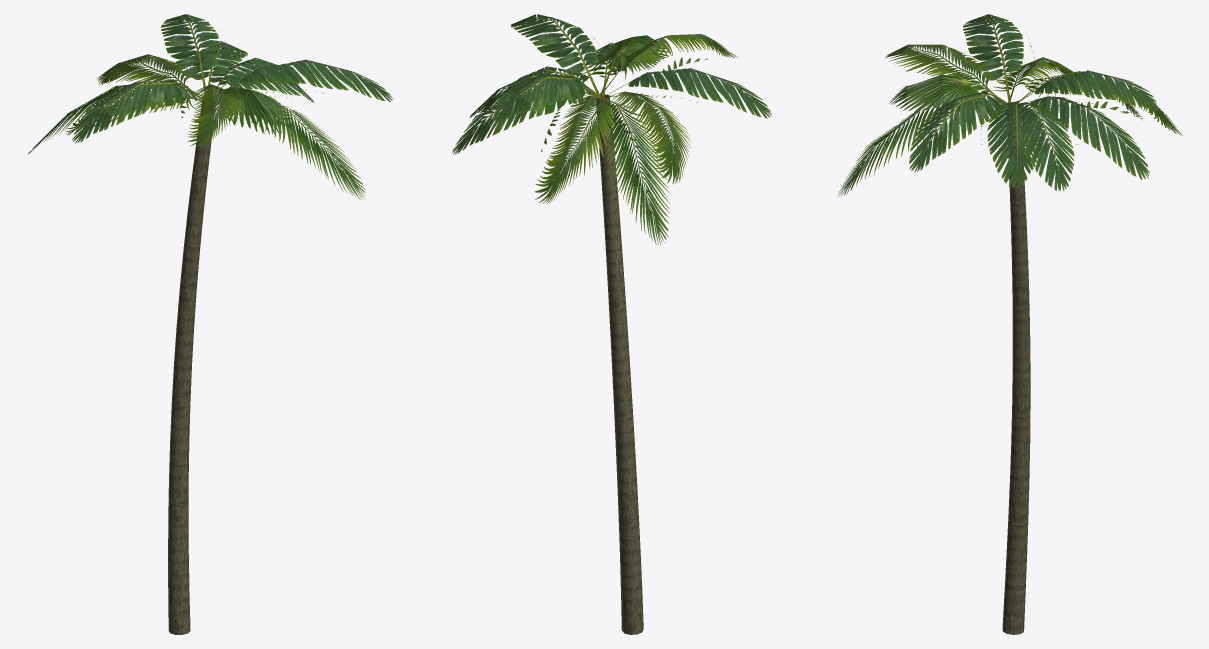
The model's file is palm_01.glb.
The picture shows the model from 3 angles, left to right: view 1: azimuth 30°, elevation 25°; view 2: azimuth 150°, elevation 25°; view 3: azimuth 270°, elevation 25°; orthographic projection. The views are drawn at different scales.
Visible parts, largest first — view 1: palm_01; view 2: palm_01; view 3: palm_01.
Boxes of the visible parts, x1,y1,x2,y2 form: palm_01: (28,14,392,634); palm_01: (452,14,771,634); palm_01: (838,14,1182,634).
Size of the model in its own units: 6.38 by 10.86 by 6.33.
Materials: 2 (2 with a texture image).
